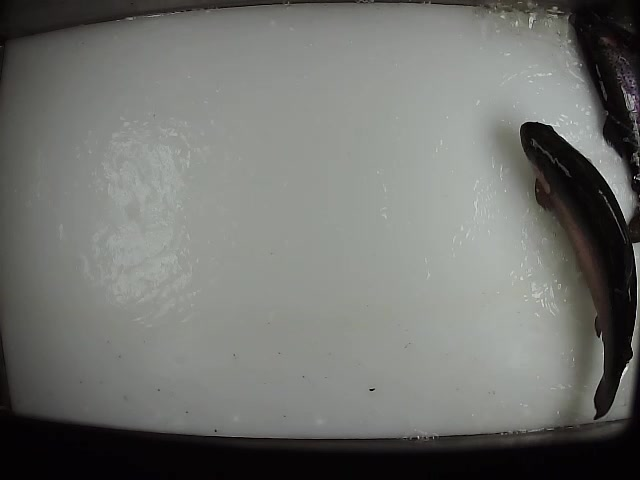fish: (518, 119, 638, 421)
